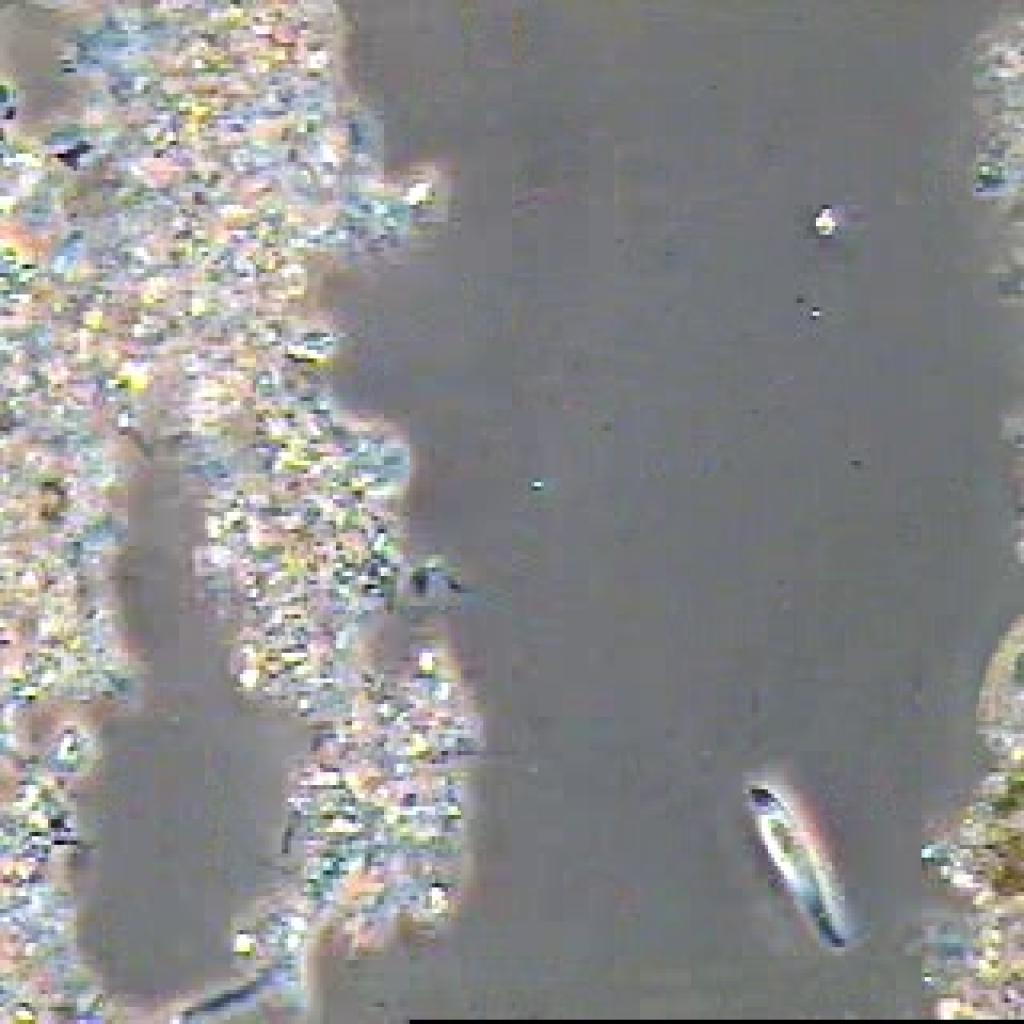Pristina: (730, 764, 864, 947)
